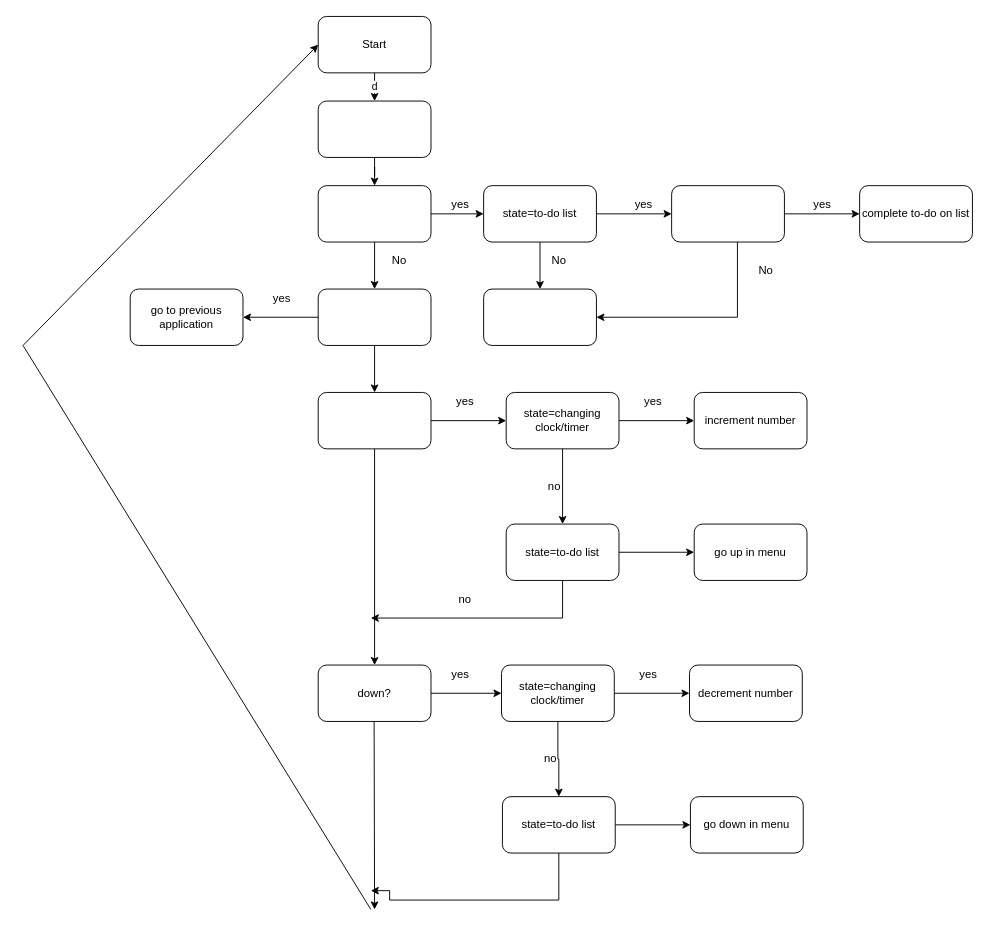
Some shapes in this 989 by 933 pixel diagram are drawn without their labels. Each missing label, with the centre of its shape:
check if button is pressed: the point at 374,128
go to next application in list: the point at 539,316
Left?: the point at 374,316
long press?: the point at 727,213
Right?: the point at 374,213
up?: the point at 374,420
